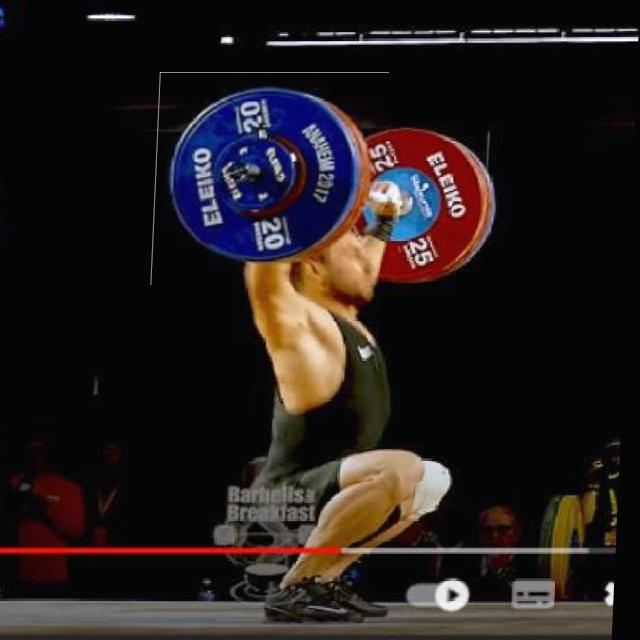barbell: (154, 73, 390, 286)
